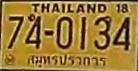0: (56, 16, 72, 48)
1: (80, 16, 85, 48)
3: (93, 15, 111, 49)
4: (112, 16, 129, 50), (24, 16, 40, 48)
7: (7, 15, 23, 48)
SPK: (25, 53, 107, 70)
